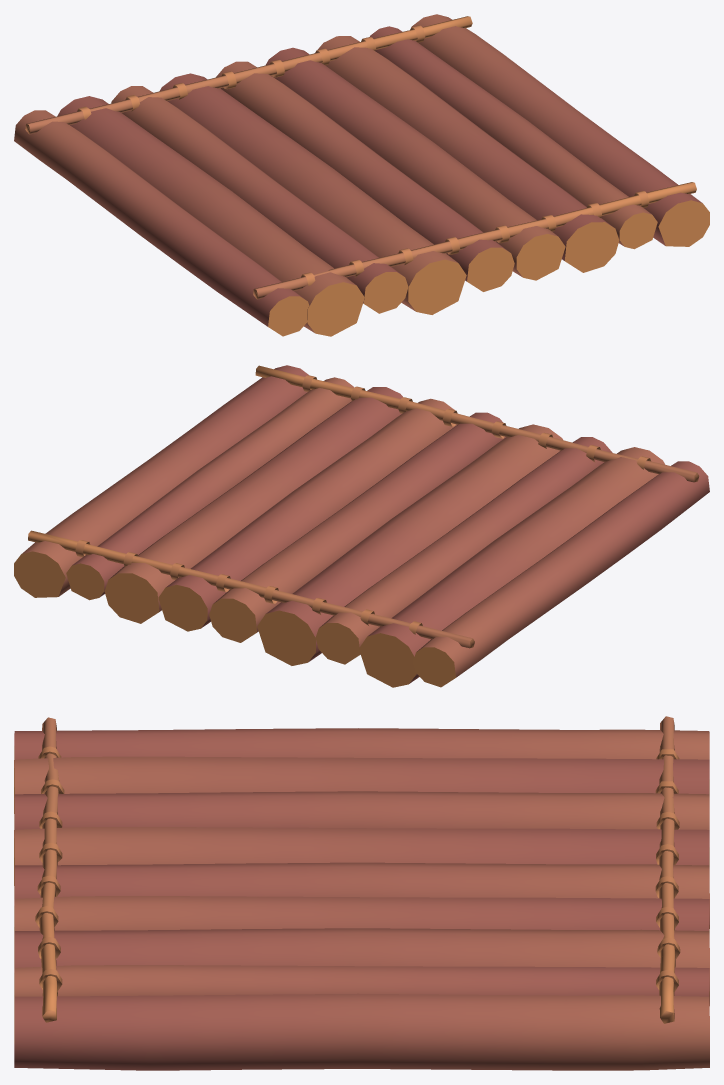
Rendered from SM_Raft.fbx.
3 renders of one model, top to bottom at view 1: azimuth 30°, elevation 25°; view 2: azimuth 150°, elevation 25°; view 3: azimuth 270°, elevation 25°, orthographic. The views are drawn at different scales.
Visible parts, largest first — view 1: SM_Raft; view 2: SM_Raft; view 3: SM_Raft.
Boxes of the visible parts, box(x1,y1,x2,y2) form: SM_Raft: box(14, 14, 709, 336); SM_Raft: box(14, 365, 709, 687); SM_Raft: box(14, 716, 709, 1070).
Bounding box in the file's own units: 9.23 × 1.2 × 9.12.
